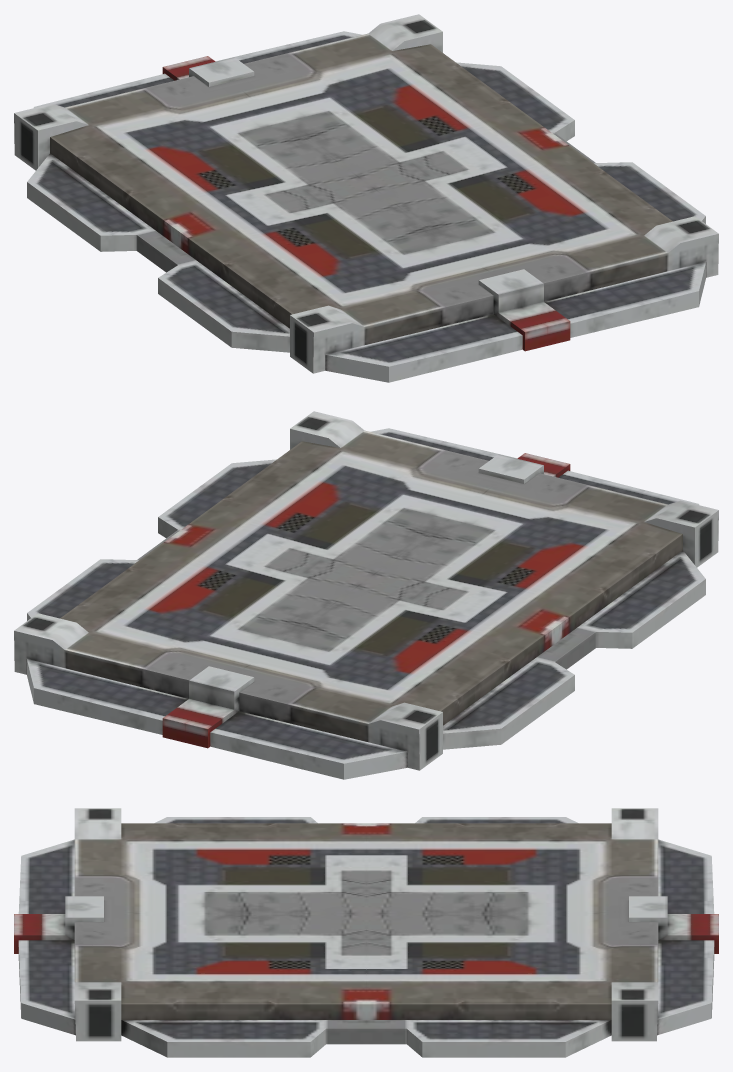
Rendered from Part - Pad 01-B4e3891K.glb.
3 views of the same model, one above another, from view 1: azimuth 30°, elevation 25°; view 2: azimuth 150°, elevation 25°; view 3: azimuth 270°, elevation 25° (orthographic). The views are drawn at different scales.
Parts seen in each view (by area): view 1: Pad_01; view 2: Pad_01; view 3: Pad_01.
Boxes of the visible parts, x1,y1,x2,y2 form: Pad_01: (14,14,718,382); Pad_01: (14,411,718,779); Pad_01: (14,808,718,1057).
Size of the model in its own units: 2.49 by 0.2087 by 3.29.
Materials: 1 (1 with a texture image).
